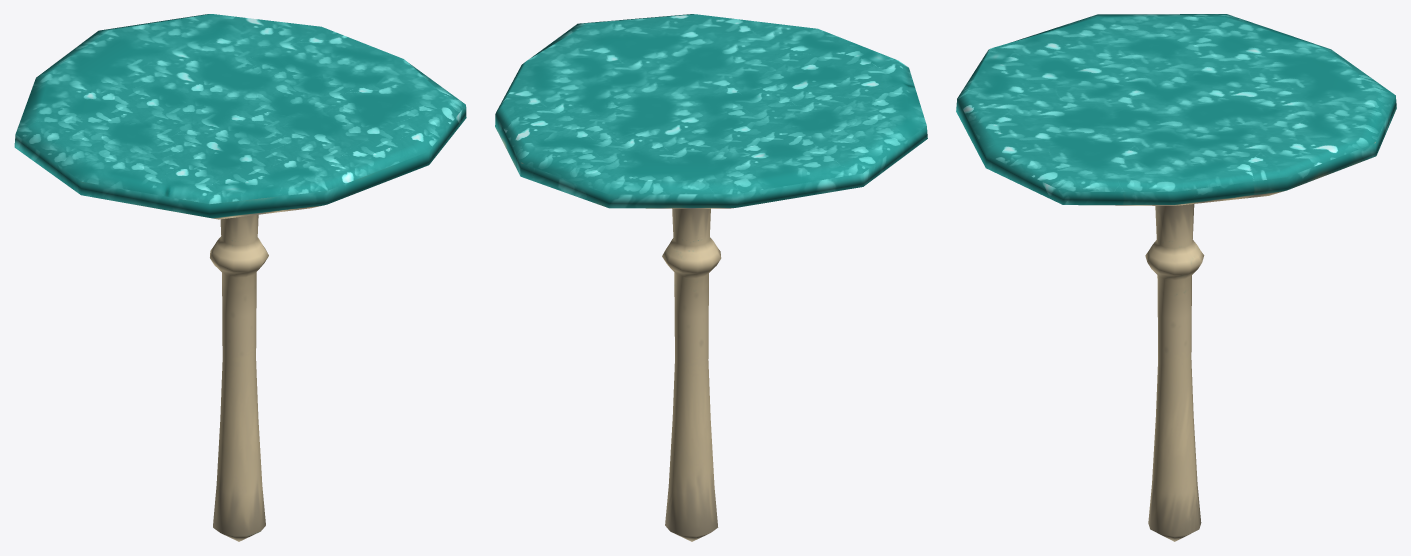
Rendered from Seta plataforma 1 textura.fbx.
3 views of the same model, side by side, from view 1: azimuth 30°, elevation 25°; view 2: azimuth 150°, elevation 25°; view 3: azimuth 270°, elevation 25° (orthographic).
Parts seen in each view (by area): view 1: Seta_Plataforma_V1; view 2: Seta_Plataforma_V1; view 3: Seta_Plataforma_V1.
Part boxes in pixels (<box>): Seta_Plataforma_V1: <box>14,14,466,541</box>; Seta_Plataforma_V1: <box>495,14,927,541</box>; Seta_Plataforma_V1: <box>956,14,1396,541</box>.
Bounding box in the file's own units: 171 × 196 × 178.
1 material, 1 textured.
